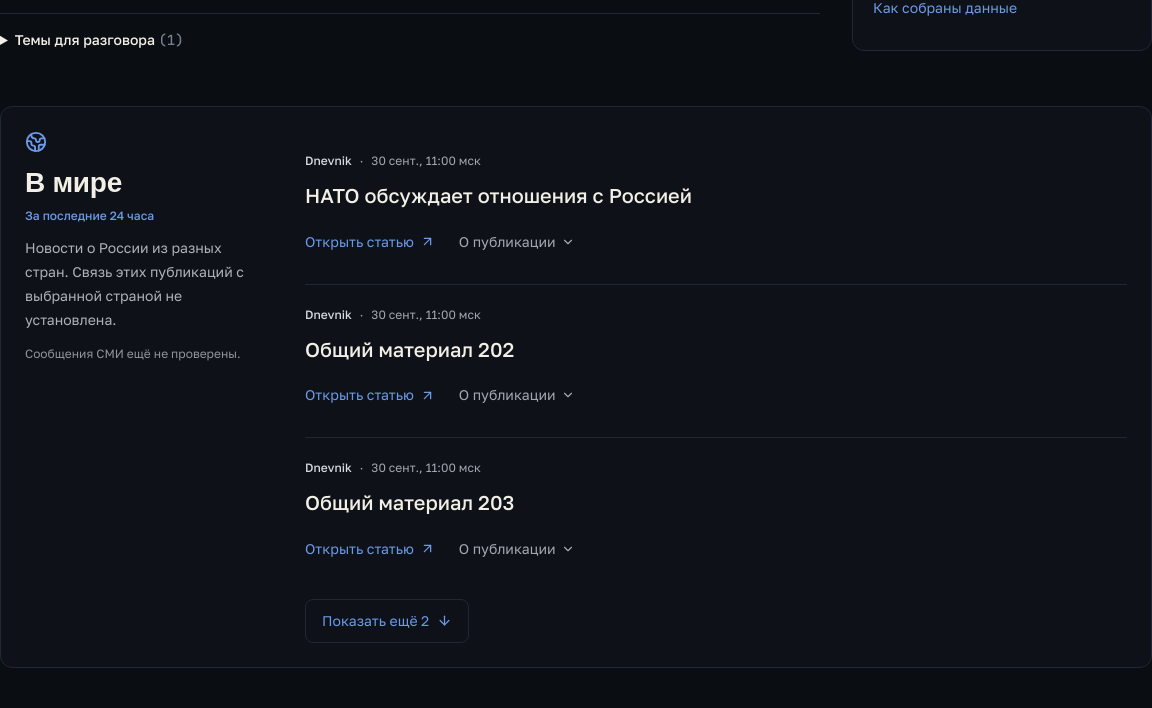
Test: DecisionWorkspace › keeps unassigned NATO news visible in a general stream without attributing it to Serbia
The image size is (1152, 708).
(page scrolled)
Check: the text "Новости о России из разных стран. Связь этих публикаций с выбранной страной не установлена." is shown, box [25,239,244,328]
Check: the heading "НАТО обсуждает отношения с Россией" is shown, box [305,183,692,207]
Click the button "Показать ещё 2" at (387, 620), box [305,598,469,642]
(page scrolled)
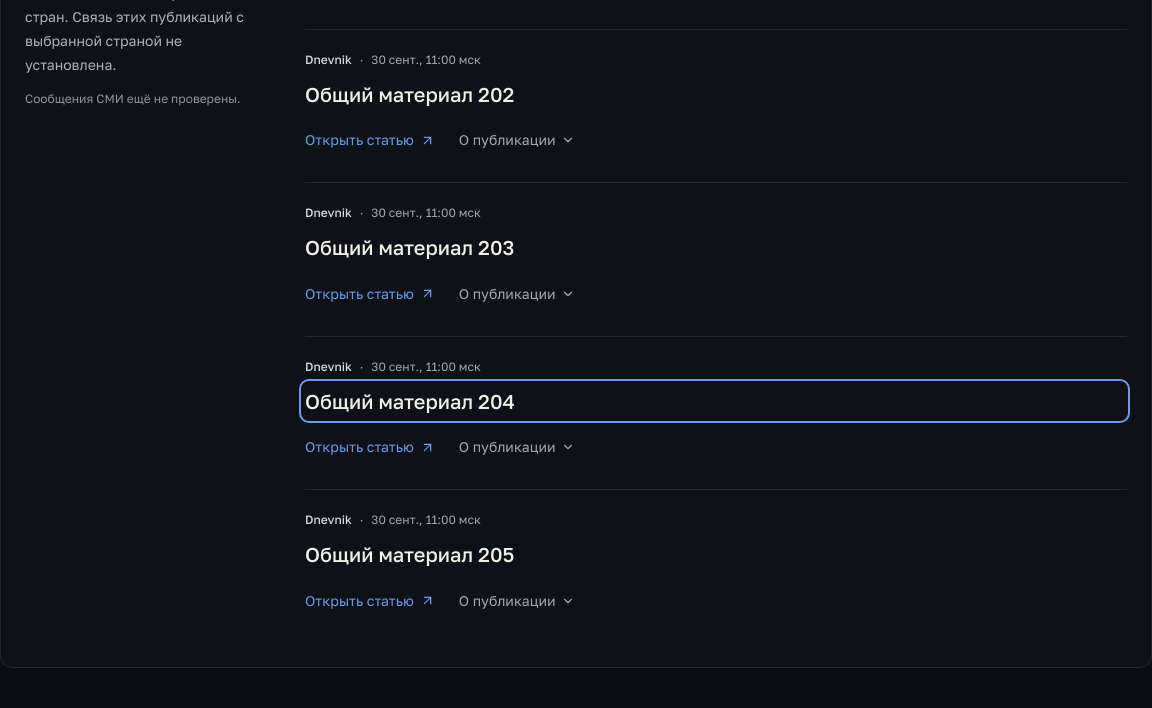
Check: the heading "Общий материал 205" is shown, box [305,542,514,566]
Check: the button "Показать ещё" is gone
